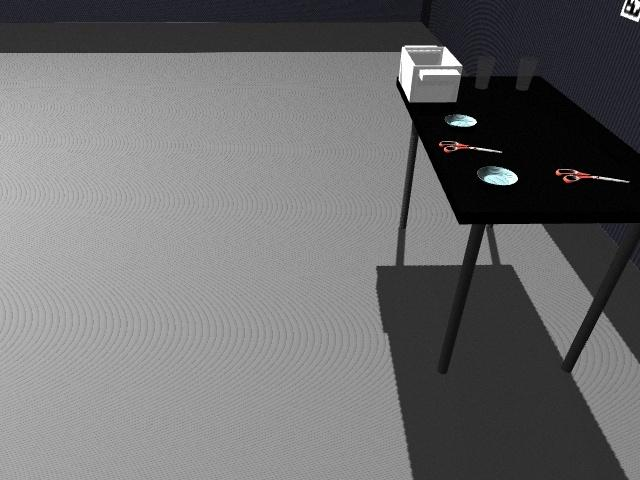cup: (515, 55, 538, 92), (474, 54, 496, 91)
plate: (477, 165, 520, 185), (443, 114, 479, 127)
scissors: (554, 168, 632, 185), (439, 139, 502, 154)
